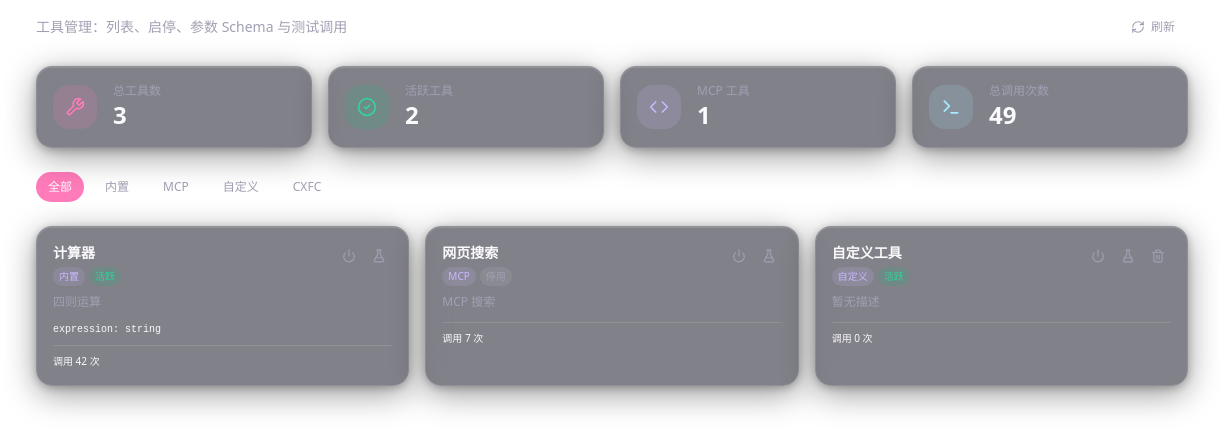
Test: ToolsPage 工具页 › 类型筛选：切到 MCP 仅显示 MCP 工具
This screenshot has width=1225, height=431.
Expected: the text "计算器" is shown, [53, 243, 95, 262]
Click the button "MCP": (176, 187) [150, 172, 202, 202]
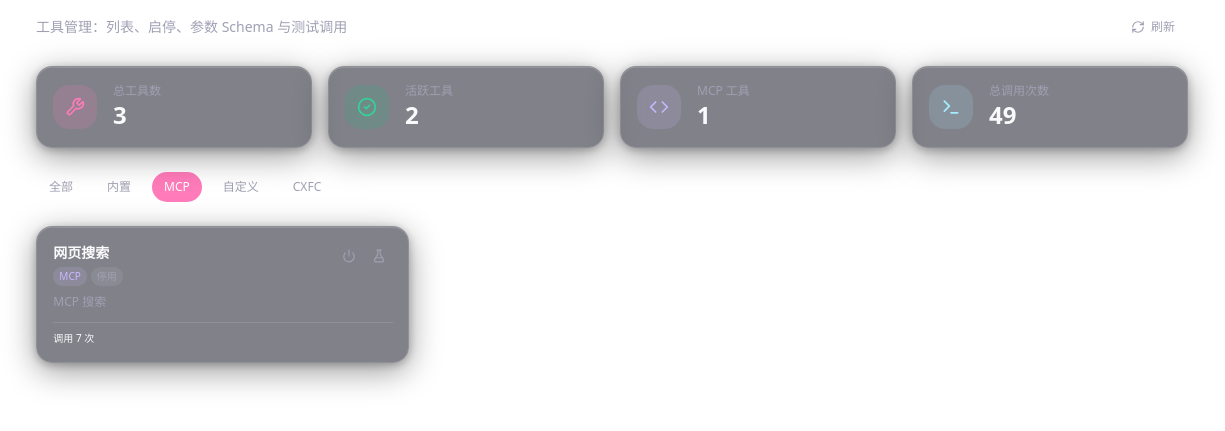
Expected: the text "网页搜索" is shown, [53, 243, 109, 262]
Now the text "计算器" is gone
